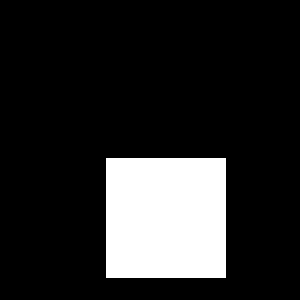circle: (106, 158, 226, 278)
